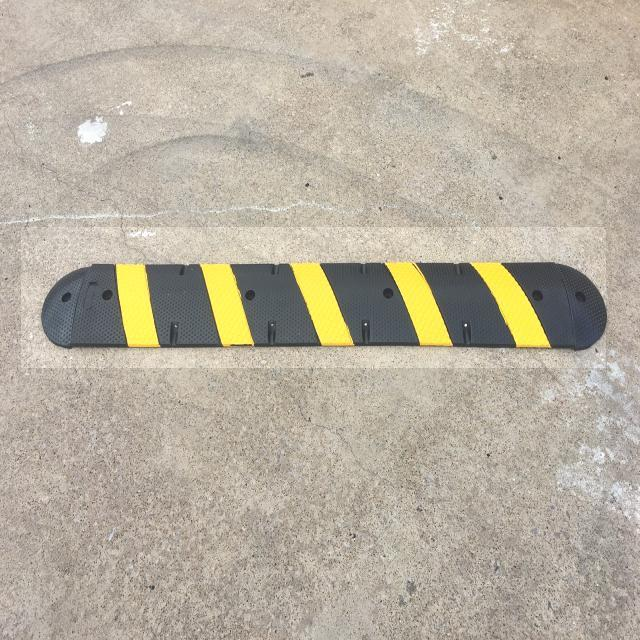speed-bump: (21, 227, 606, 368)
